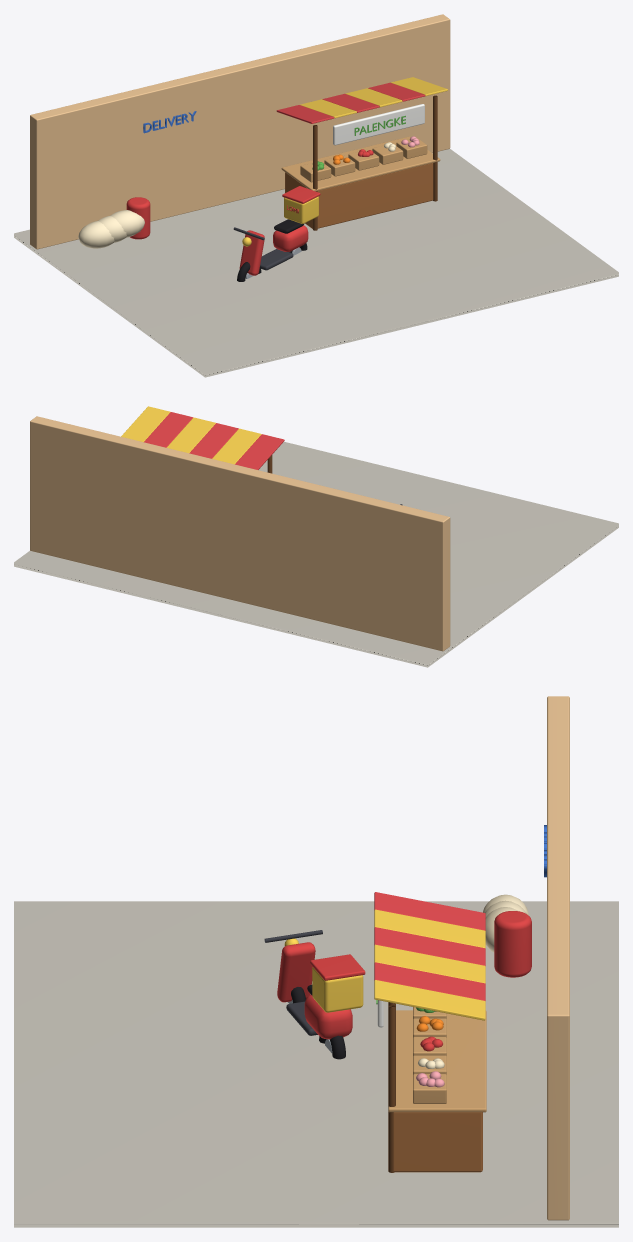
File: hub.glb
3 views of the same model, one above another, from view 1: azimuth 30°, elevation 25°; view 2: azimuth 150°, elevation 25°; view 3: azimuth 270°, elevation 25° (orthographic). The views are drawn at different scales.
Parts seen in each view (by area): view 1: Ground, Wall, Stall, Scooter, StallTop, MarketSign, Sack, GasTank, Canopy, Sack.002, Canopy.004, Canopy.002 (+4 smaller); view 2: Wall, Ground, Canopy, Canopy.003, Canopy.001, Canopy.005, Canopy.004, Canopy.002; view 3: Ground, Wall, Scooter, StallTop, Stall, GasTank, Canopy.005, Canopy, Canopy.002, Canopy.003, Canopy.001, Canopy.004 (+2 smaller).
Boxes of the visible parts, x1,y1,x2,y2 form: Ground: (14, 149, 618, 377); Wall: (30, 14, 450, 249); Stall: (285, 163, 433, 228); Scooter: (233, 186, 320, 281); StallTop: (281, 136, 440, 191); MarketSign: (333, 104, 424, 145); Sack: (78, 221, 114, 248); GasTank: (126, 197, 150, 239); Canopy: (276, 105, 334, 123); Sack.002: (110, 210, 144, 237); Canopy.004: (368, 82, 425, 101); Canopy.002: (322, 93, 379, 112); Wall: (30, 416, 450, 651); Ground: (14, 441, 618, 667); Canopy: (235, 434, 284, 469); Canopy.003: (166, 417, 215, 453); Canopy.001: (212, 428, 261, 464); Canopy.005: (121, 406, 170, 441); Canopy.004: (144, 412, 193, 447); Canopy.002: (189, 423, 238, 458); Ground: (14, 901, 618, 1227); Wall: (547, 696, 569, 1220); Scooter: (264, 930, 365, 1059); StallTop: (388, 1010, 486, 1112); Stall: (393, 1112, 482, 1172); GasTank: (494, 911, 531, 977); Canopy.005: (374, 980, 485, 1020); Canopy: (374, 892, 485, 930); Canopy.002: (374, 927, 485, 965); Canopy.003: (374, 944, 485, 983); Canopy.001: (374, 909, 485, 948); Canopy.004: (374, 962, 485, 1000).
Size of the model in its own units: 10 by 3.35 by 8.
